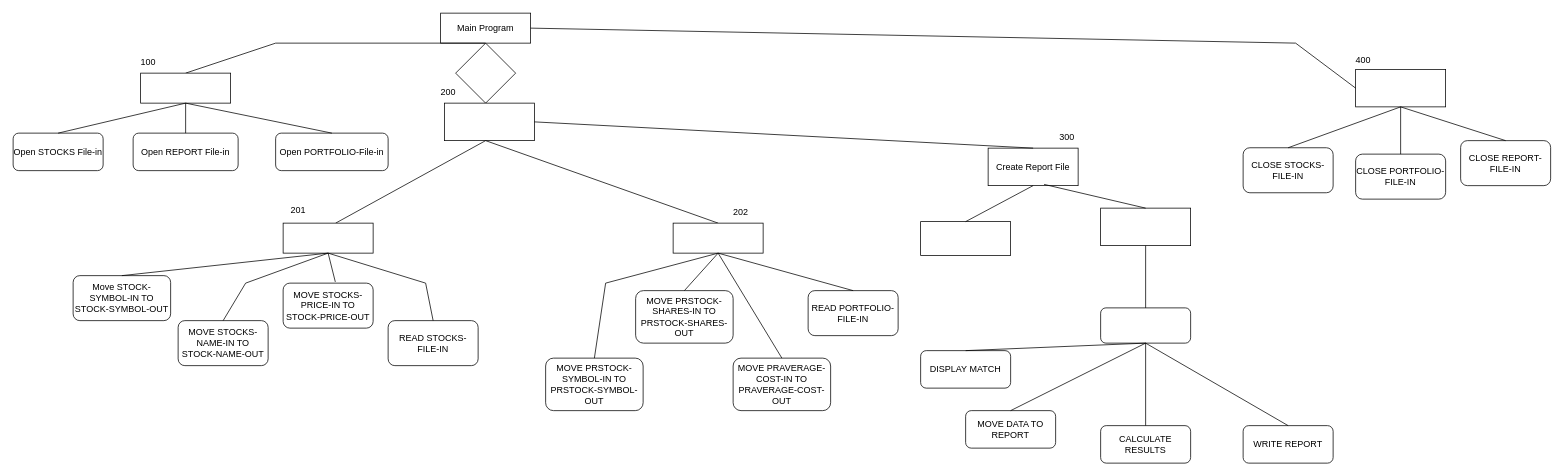
Image size: 1564x476. Some labels were removed from this diagram. The shapes that lost their labels are listed below. From the top down, each one's box as (x1, y1, x2, y2) in pixels, then its label:
(140, 72, 231, 103): Initialization
(1355, 69, 1446, 107): Close Files
(444, 102, 534, 141): Process Files
(282, 222, 373, 253): Load-STOCKS
(672, 222, 763, 253): Load PORTFOLIO
(920, 221, 1011, 255): Write header
(1100, 207, 1191, 246): Checking Progress
(1100, 307, 1191, 343): Varying Stock-Index
